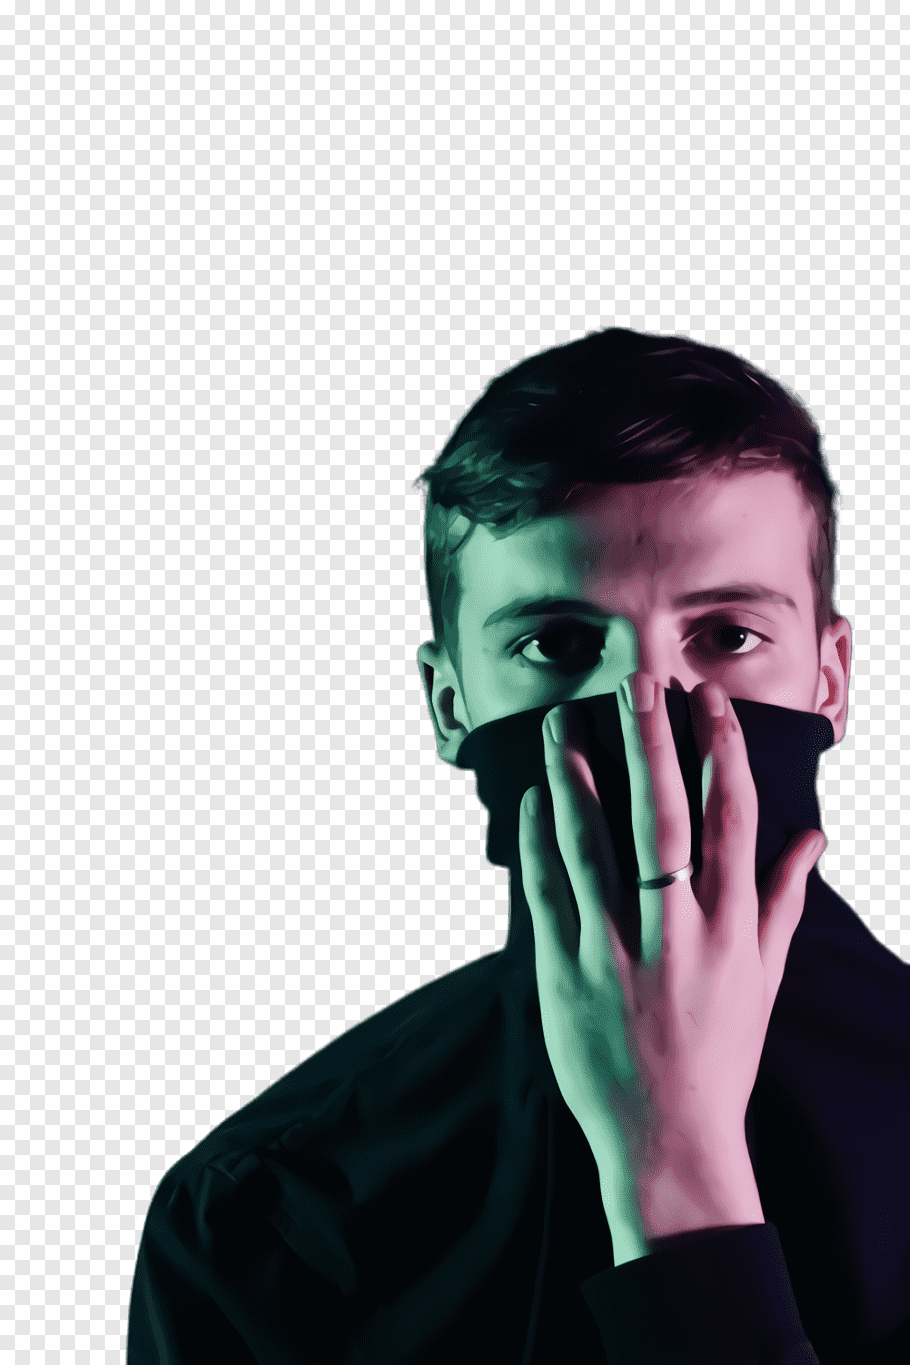mask: (441, 656, 865, 992)
